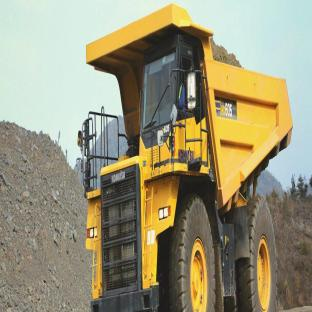Vehicle: (69, 7, 292, 310)
